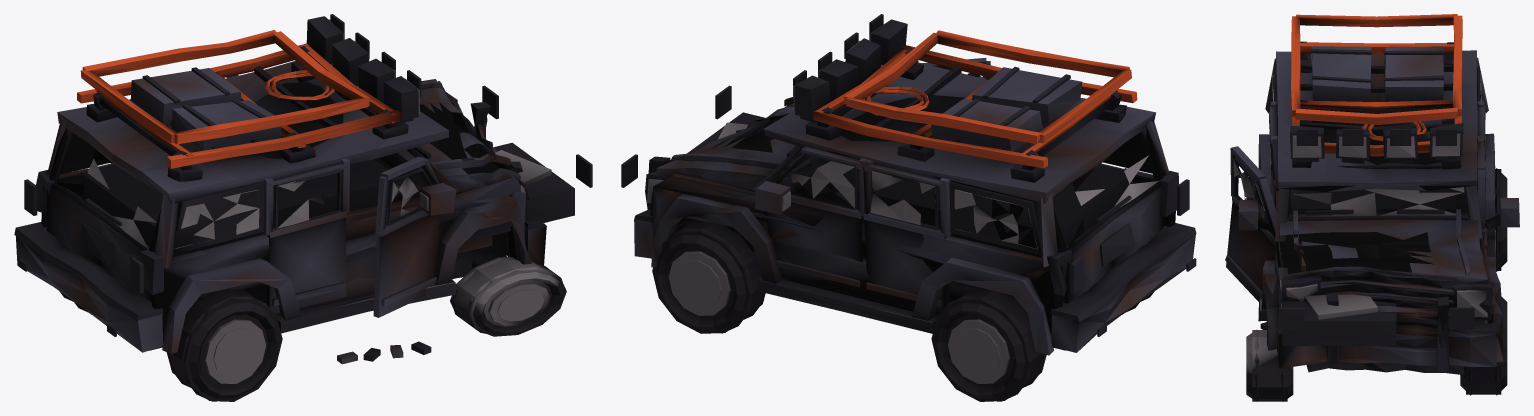
File: model.wrecked.glb
3 views of the same model, side by side, from view 1: azimuth 30°, elevation 25°; view 2: azimuth 150°, elevation 25°; view 3: azimuth 270°, elevation 25° (orthographic). The views are drawn at different scales.
Parts seen in each view (by area): view 1: body_pal_asphalt, body_pal_uiDark, body_pal_brick, wheelRL_pal_sidewalk, wheelFL_pal_sidewalk, body_pal_sidewalk; view 2: body_pal_asphalt, body_pal_uiDark, body_pal_brick, wheelFR_pal_sidewalk, wheelRR_pal_sidewalk, body_pal_sidewalk; view 3: body_pal_asphalt, body_pal_uiDark, body_pal_brick, body_pal_sidewalk, wheelFL_pal_sidewalk, wheelFR_pal_sidewalk, wheelRR_pal_sidewalk.
Boxes of the visible parts, x1,y1,x2,y2 form: body_pal_asphalt: (16, 61, 546, 364); body_pal_uiDark: (14, 14, 592, 361); body_pal_brick: (77, 30, 401, 168); wheelRL_pal_sidewalk: (166, 288, 282, 401); wheelFL_pal_sidewalk: (450, 256, 566, 336); body_pal_sidewalk: (55, 19, 551, 317); body_pal_asphalt: (634, 58, 1195, 355); body_pal_uiDark: (621, 14, 1196, 350); body_pal_brick: (813, 30, 1137, 168); wheelFR_pal_sidewalk: (652, 219, 765, 333); wheelRR_pal_sidewalk: (931, 289, 1046, 401); body_pal_sidewalk: (647, 27, 1158, 322); body_pal_asphalt: (1225, 46, 1519, 368); body_pal_uiDark: (1233, 41, 1500, 375); body_pal_brick: (1291, 14, 1462, 156); body_pal_sidewalk: (1233, 73, 1495, 319); wheelFL_pal_sidewalk: (1246, 329, 1293, 401); wheelFR_pal_sidewalk: (1460, 296, 1507, 395); wheelRR_pal_sidewalk: (1495, 168, 1507, 271).
Size of the model in its own units: 4.77 by 2.53 by 2.84.
